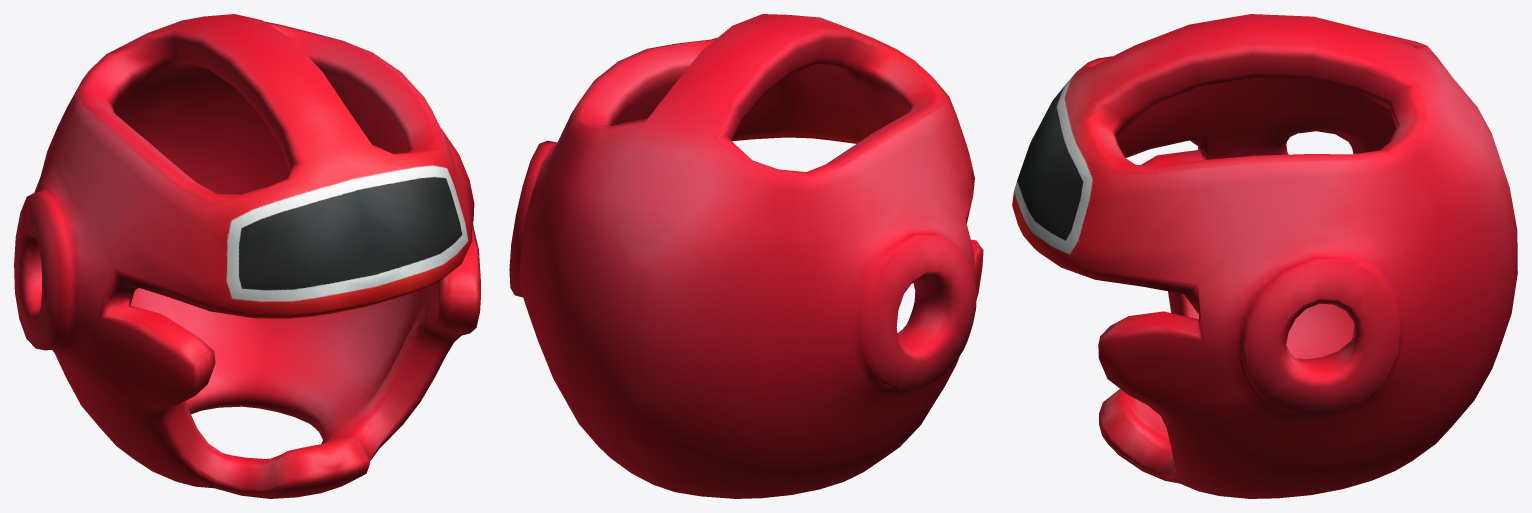
File: armor4.fbx
The picture shows the model from 3 angles, left to right: view 1: azimuth 30°, elevation 25°; view 2: azimuth 150°, elevation 25°; view 3: azimuth 270°, elevation 25°; orthographic projection. The views are drawn at different scales.
Visible parts, largest first — view 1: armor4; view 2: armor4; view 3: armor4.
Boxes of the visible parts, x1,y1,x2,y2 form: armor4: (14,14,480,498); armor4: (509,14,983,498); armor4: (1012,14,1517,498).
Size of the model in its own units: 35.43 by 34.01 by 35.61.
